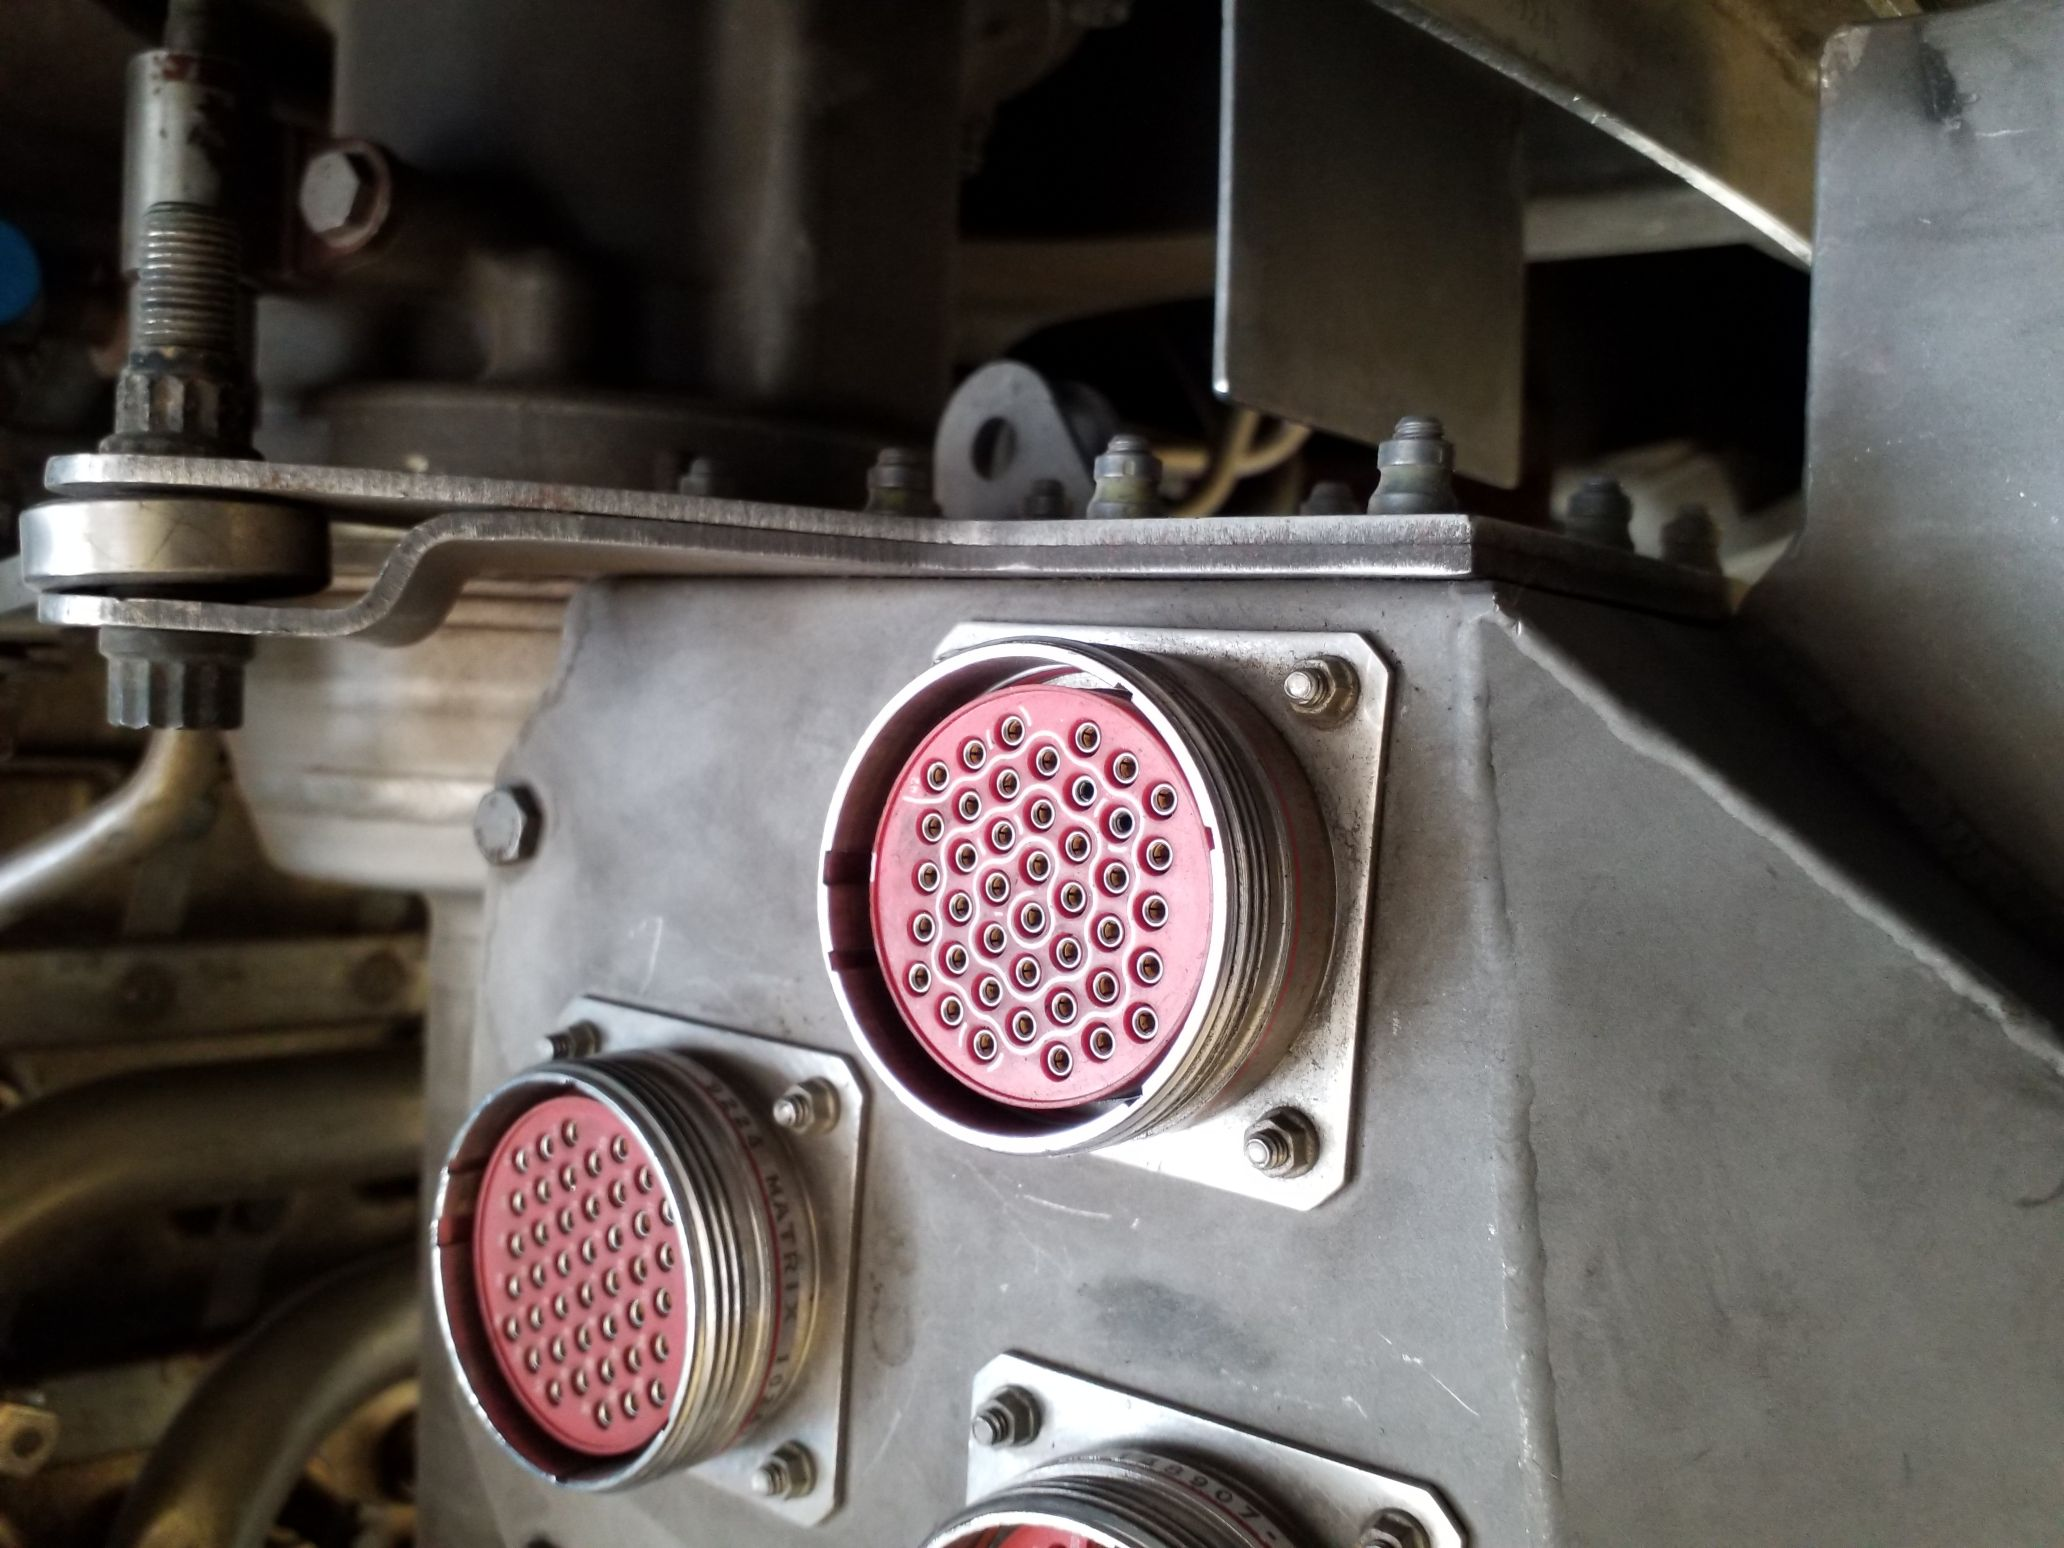inletround: (795, 615, 1351, 1177)
